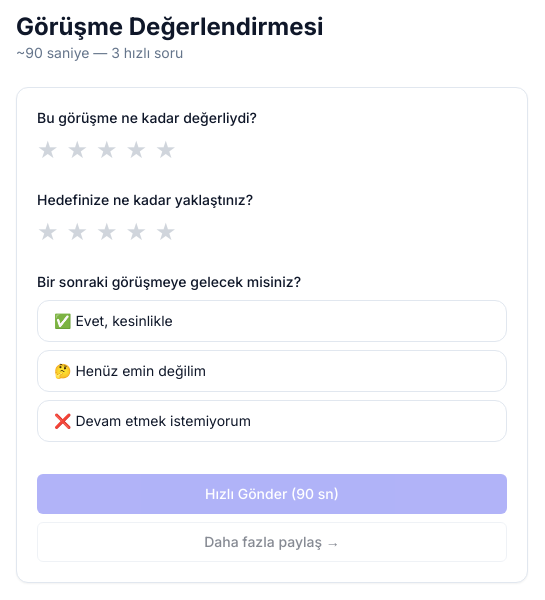
Test: Check-in sayfası — kutlama sayısı (AJ-33) › ilk görüşmenin check-in'i "İlk görüşmeni tamamladın!" gösterir, "2. görüşmen" DEĞİL
The width and height of the screenshot is (545, 600).
Click the 5th button "★" at point(166, 150), box [155,134,177,166]
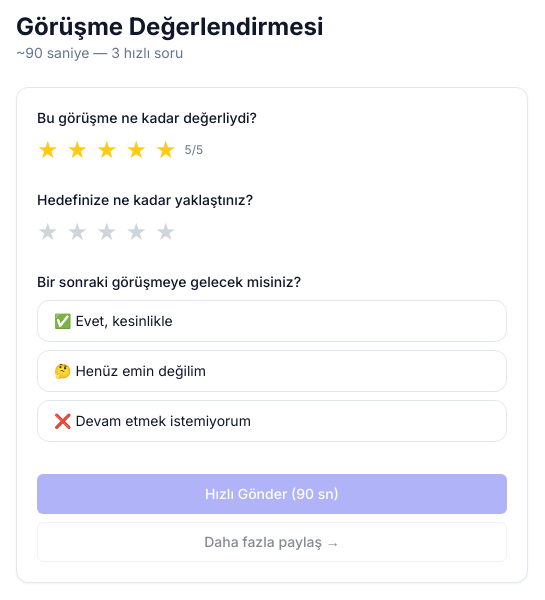
Click the 10th button "★" at point(166, 232), box [155,216,177,248]
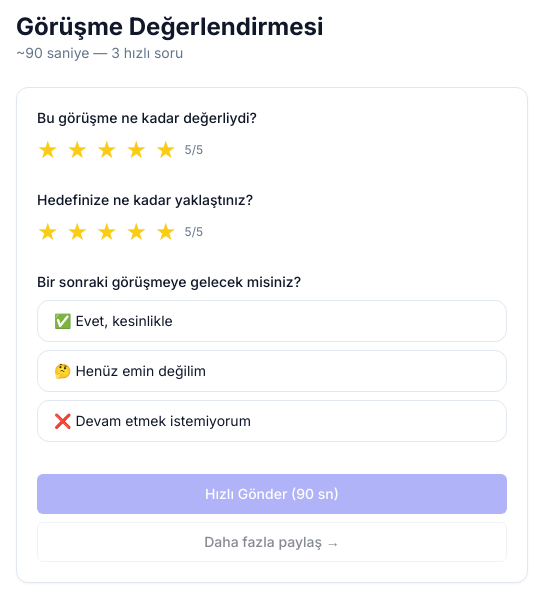
Click the button "✅ Evet, kesinlikle" at point(113, 320), box [37,300,507,342]
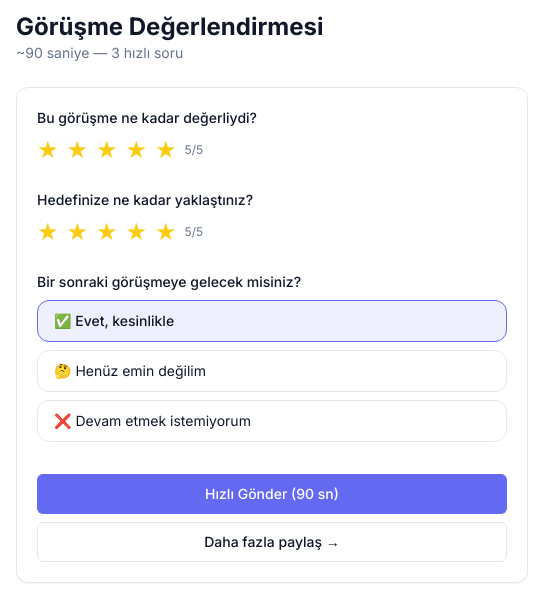
Click the button "Hızlı Gönder (90 sn)" at point(272, 494), box [37,474,507,514]
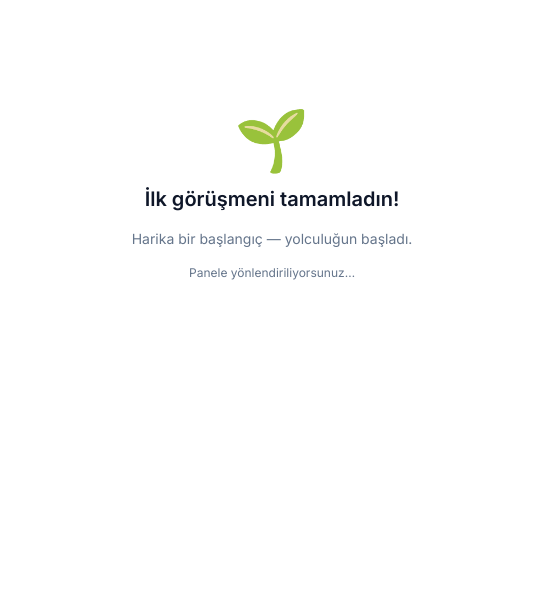
Expected: the heading "İlk görüşmeni tamamladın!" is shown, [145,185,399,213]
